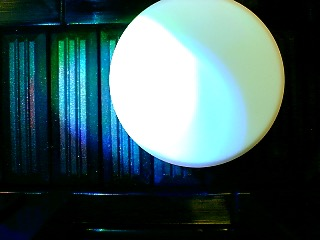BLANK: (108, 1, 285, 167)
